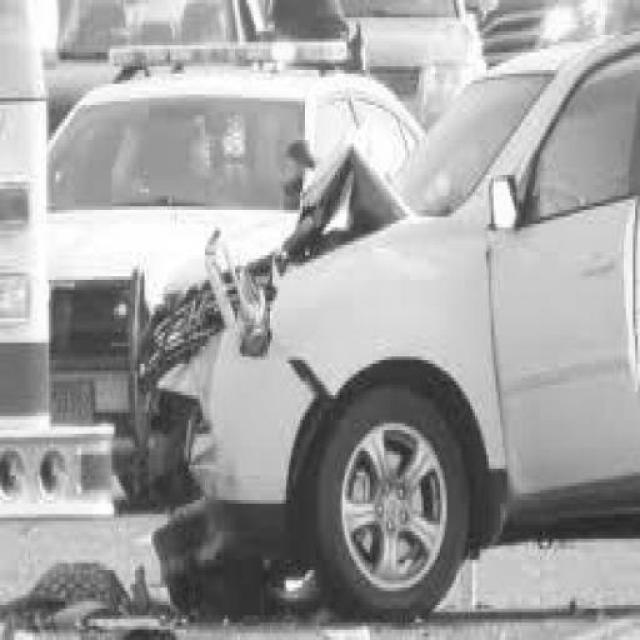crush: (132, 143, 478, 564)
